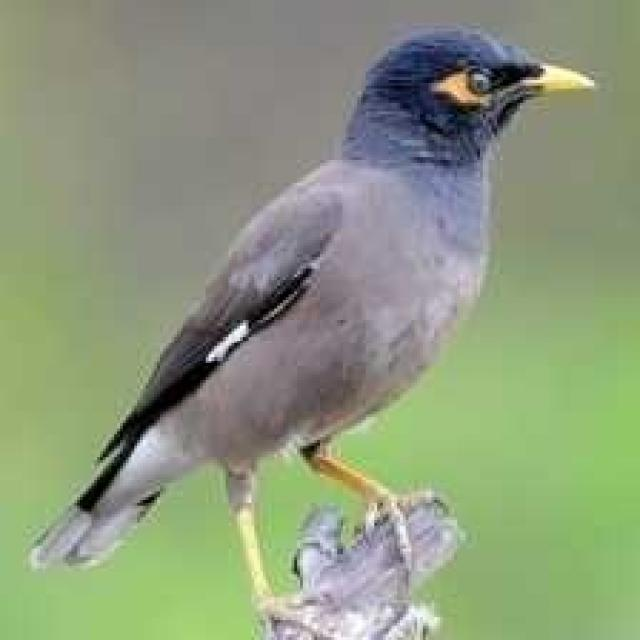bird: (31, 15, 602, 580)
